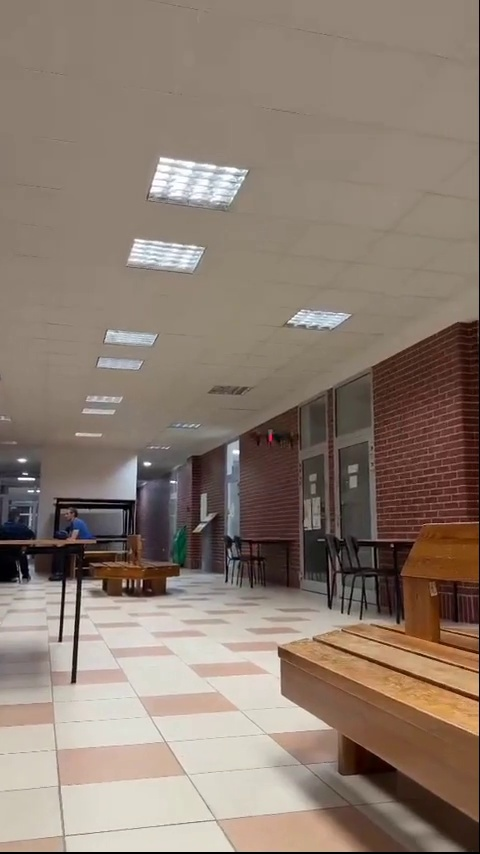drone: (248, 425, 297, 452)
no vest: (53, 497, 93, 574), (5, 503, 35, 578)
